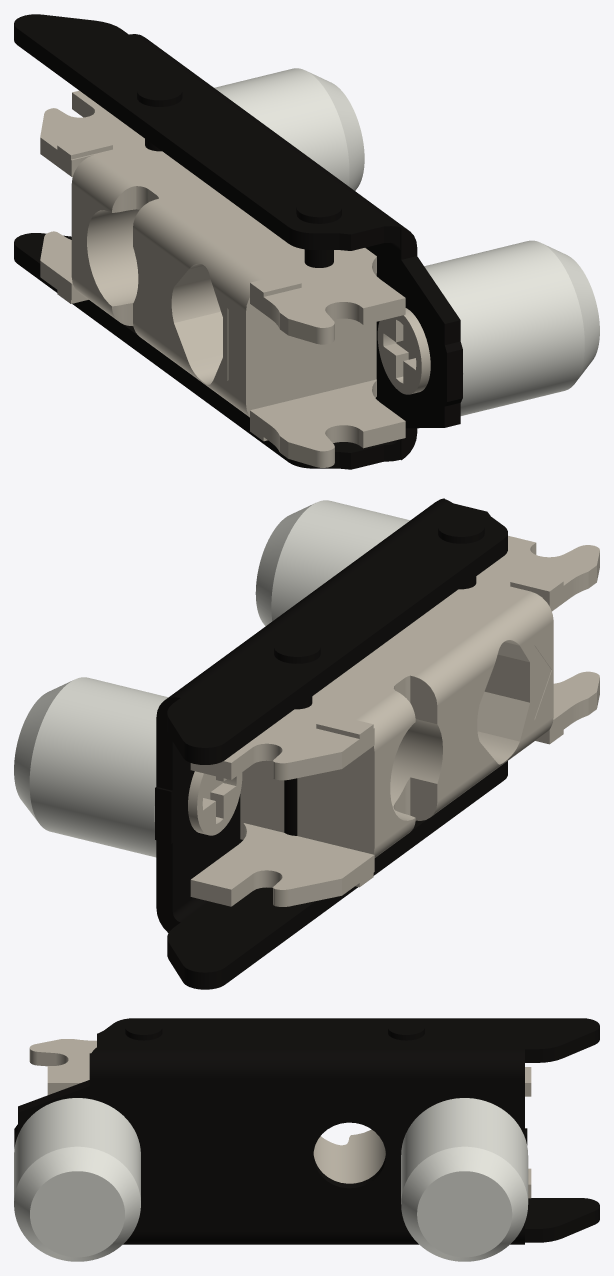
The picture shows the model from 3 angles, top to bottom: view 1: azimuth 30°, elevation 25°; view 2: azimuth 150°, elevation 25°; view 3: azimuth 270°, elevation 25°; orthographic projection. The views are drawn at different scales.
Visible parts, largest first — view 1: bau0027289695; view 2: bau0027289695; view 3: bau0027289695.
Part boxes in pixels (bbox=[...]): bau0027289695: bbox=[14, 14, 599, 469]; bau0027289695: bbox=[14, 498, 599, 989]; bau0027289695: bbox=[14, 1018, 599, 1261].
Size of the model in its own units: 23 by 18.65 by 48.44.
